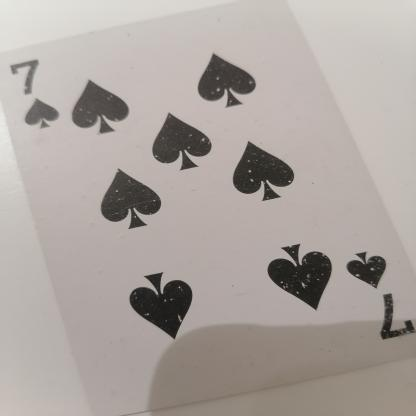7S: (333, 236, 416, 355), (0, 60, 67, 140)
